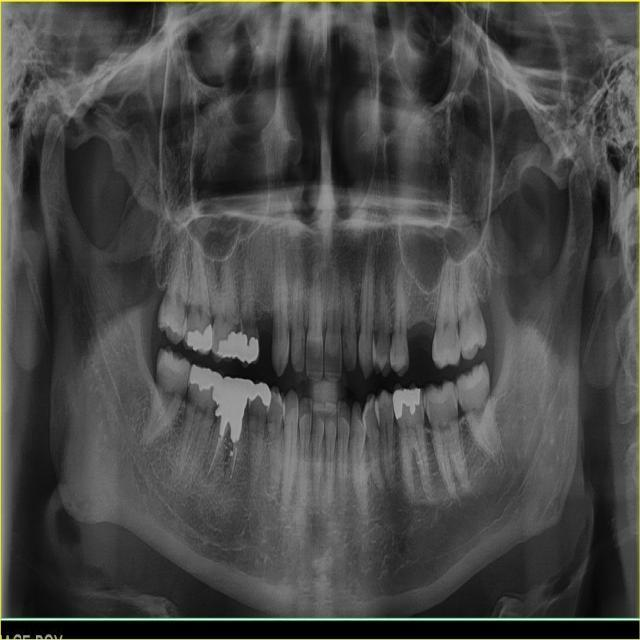74: (207, 435, 223, 479), (230, 441, 239, 479)
NucleOSS Implant: (205, 374, 253, 445), (182, 358, 234, 406), (392, 387, 423, 420), (246, 379, 274, 407), (187, 323, 212, 352), (216, 330, 240, 360), (237, 334, 259, 364), (229, 450, 235, 456)
Sterngold Implant: (404, 345, 408, 357)
